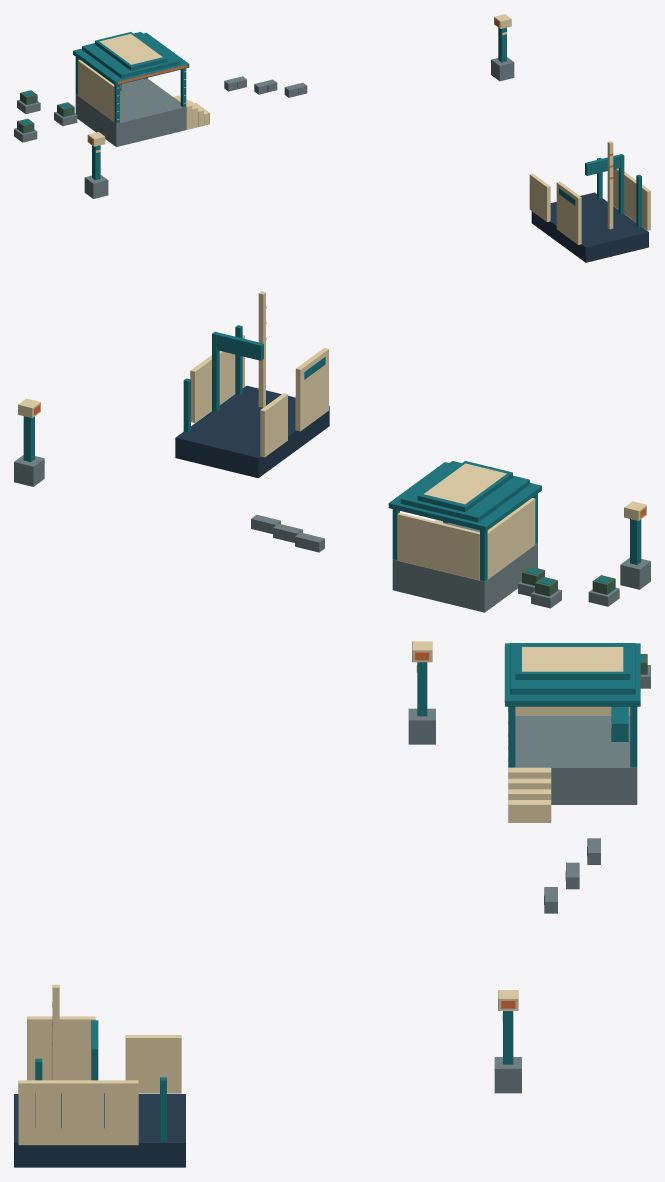
File: scenery-lod-1.glb
3 renders of one model, top to bottom at view 1: azimuth 30°, elevation 25°; view 2: azimuth 150°, elevation 25°; view 3: azimuth 270°, elevation 25°, orthographic. The views are drawn at different scales.
Parts seen in each view (by area): view 1: cove_workshop, cove_wreck, cove_shore, cove_east_beacon, cove_west_beacon; view 2: cove_workshop, cove_wreck, cove_shore, cove_east_beacon, cove_west_beacon; view 3: cove_wreck, cove_workshop, cove_east_beacon, cove_west_beacon, cove_shore.
Boxes of the visible parts, x1,y1,x2,y2 form: cove_workshop: [73, 32, 209, 146]; cove_wreck: [529, 141, 650, 262]; cove_shore: [14, 76, 307, 142]; cove_east_beacon: [84, 132, 108, 198]; cove_west_beacon: [491, 14, 514, 81]; cove_workshop: [388, 461, 541, 612]; cove_wreck: [175, 291, 329, 478]; cove_shore: [251, 515, 619, 608]; cove_east_beacon: [620, 501, 650, 589]; cove_west_beacon: [14, 398, 44, 486]; cove_wreck: [14, 984, 185, 1167]; cove_workshop: [504, 643, 640, 822]; cove_east_beacon: [408, 641, 435, 744]; cove_west_beacon: [494, 990, 521, 1093]; cove_shore: [544, 654, 650, 913].
Size of the model in its own units: 40.28 by 12.49 by 29.64.
